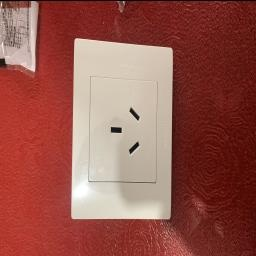outlet: (64, 28, 182, 224)
